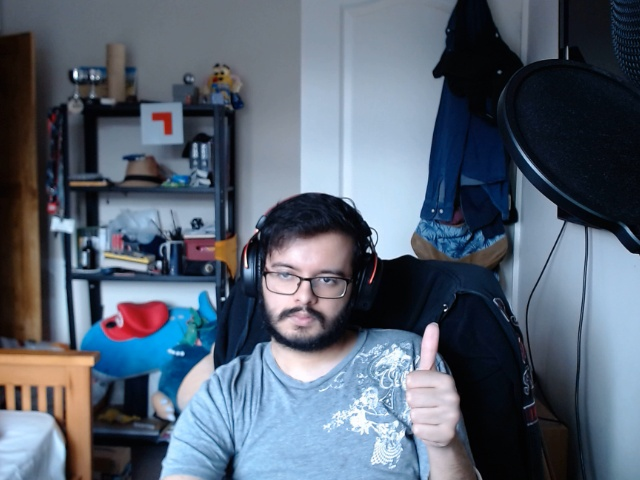Thumbs up: (400, 313, 470, 443)
